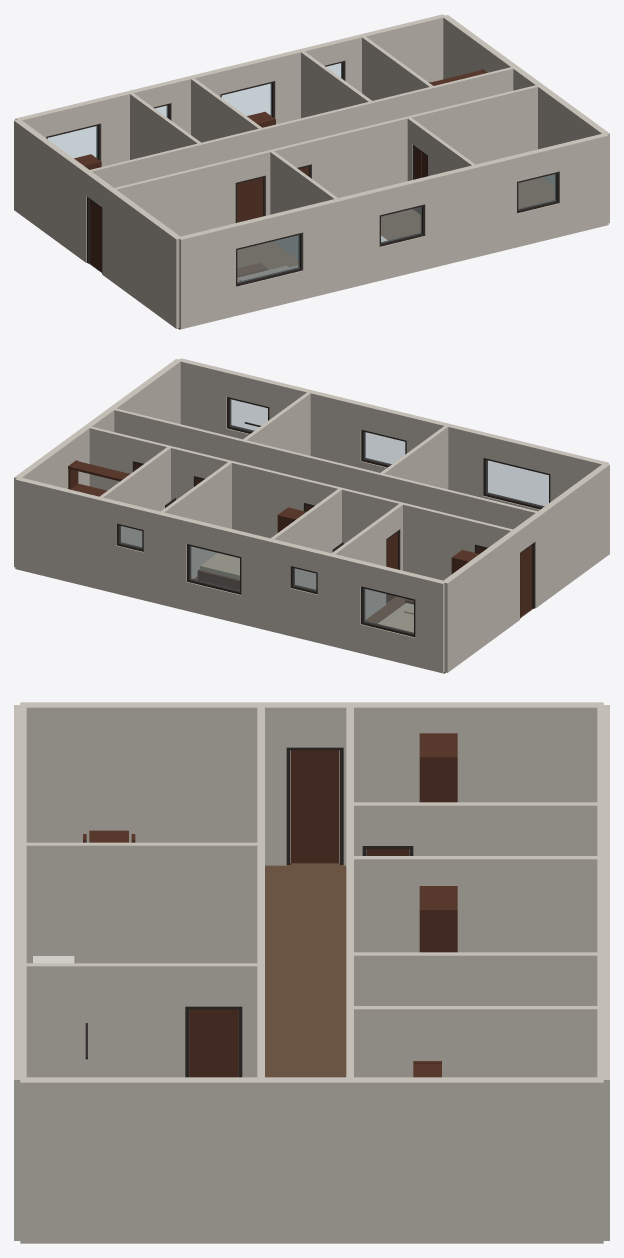
Rendered from approved-scene.glb.
3 renders of one model, top to bottom at view 1: azimuth 30°, elevation 25°; view 2: azimuth 150°, elevation 25°; view 3: azimuth 270°, elevation 25°, orthographic. The views are drawn at different scales.
Parts seen in each view (by area): view 1: wall-public-south-solid-end, wall-exterior-south-solid-before-window-service, wall-exterior-west-solid-end, wall-exterior-south-solid-before-window-kitchen, wall-exterior-west-solid-before-door-primary-entry, wall-public-south-solid-before-door-circulation-living, wall-exterior-east-solid-end, wall-exterior-south-solid-before-window-living, wall-exterior-south-solid-end, wall-exterior-north-solid-before-window-common-bath, wall-public-north-solid-before-door-circulation-bedroom-2, wall-living-kitchen-solid-end (+40 smaller); view 2: wall-exterior-north-solid-before-window-common-bath, wall-exterior-west-solid-before-door-primary-entry, wall-exterior-west-solid-end, wall-public-north-solid-before-door-circulation-bedroom-2, wall-public-south-solid-end, wall-exterior-east-solid-end, wall-exterior-north-solid-before-window-ensuite, wall-exterior-south-solid-before-window-service, wall-public-north-solid-before-door-circulation-common-bath, wall-exterior-north-solid-before-window-bedroom-2, wall-exterior-north-solid-before-window-master, wall-exterior-south-solid-before-window-kitchen (+42 smaller); view 3: wall-exterior-east-solid-end, wall-exterior-west-solid-end, wall-living-kitchen-solid-end, wall-exterior-west-solid-before-door-primary-entry, wall-ensuite-bedroom-2-solid-end, wall-kitchen-service-solid-before-door-kitchen-service, floor-room-public-circulation, wall-common-bath-store-solid-end, wall-bedroom-2-common-bath-solid-end, wall-master-ensuite-solid-end, door-primary-entry-door-leaf-left, asset-pl-1-6-wardrobe-900-carcass (+15 smaller).
Part boxes in pixels (x1,y1,x2,y2): wall-public-south-solid-end: (310,85,538,197); wall-exterior-south-solid-before-window-service: (422,155,516,269); wall-exterior-west-solid-end: (102,184,181,328); wall-exterior-south-solid-before-window-kitchen: (300,189,379,299); wall-exterior-west-solid-before-door-primary-entry: (14,119,91,262); wall-public-south-solid-before-door-circulation-living: (114,159,235,236); wall-exterior-east-solid-end: (442,15,609,223); wall-exterior-south-solid-before-window-living: (179,224,235,329); wall-exterior-south-solid-end: (557,133,608,236); wall-exterior-north-solid-before-window-common-bath: (342,14,445,92); wall-public-north-solid-before-door-circulation-bedroom-2: (126,126,271,184); wall-living-kitchen-solid-end: (270,151,337,259); wall-exterior-north-solid-before-window-common-bath: (15,477,119,593); wall-exterior-west-solid-before-door-primary-entry: (443,529,519,672); wall-exterior-west-solid-end: (530,464,609,608); wall-public-north-solid-before-door-circulation-bedroom-2: (331,485,476,580); wall-public-south-solid-end: (113,408,341,486); wall-exterior-east-solid-end: (14,359,180,567); wall-exterior-north-solid-before-window-ensuite: (241,532,293,635); wall-exterior-south-solid-before-window-service: (269,380,363,467); wall-public-north-solid-before-door-circulation-common-bath: (218,458,304,538); wall-exterior-north-solid-before-window-bedroom-2: (143,508,189,610); wall-exterior-north-solid-before-window-master: (317,551,363,652); wall-exterior-south-solid-before-window-kitchen: (406,414,485,497); wall-exterior-east-solid-end: (20,1077,603,1243); wall-exterior-west-solid-end: (20,702,286,865); wall-living-kitchen-solid-end: (21,842,261,963); wall-exterior-west-solid-before-door-primary-entry: (343,702,603,865); wall-ensuite-bedroom-2-solid-end: (350,856,603,952); wall-kitchen-service-solid-before-door-kitchen-service: (21,963,185,1077); floor-room-public-circulation: (265,863,346,1077); wall-common-bath-store-solid-end: (354,1006,603,1077); wall-bedroom-2-common-bath-solid-end: (350,952,601,1005); wall-master-ensuite-solid-end: (413,802,603,855); door-primary-entry-door-leaf-left: (290,750,339,863); asset-pl-1-6-wardrobe-900-carcass: (419,733,457,802).
Bounding box in the file's own units: 14.2 × 2.85 × 9.4.
